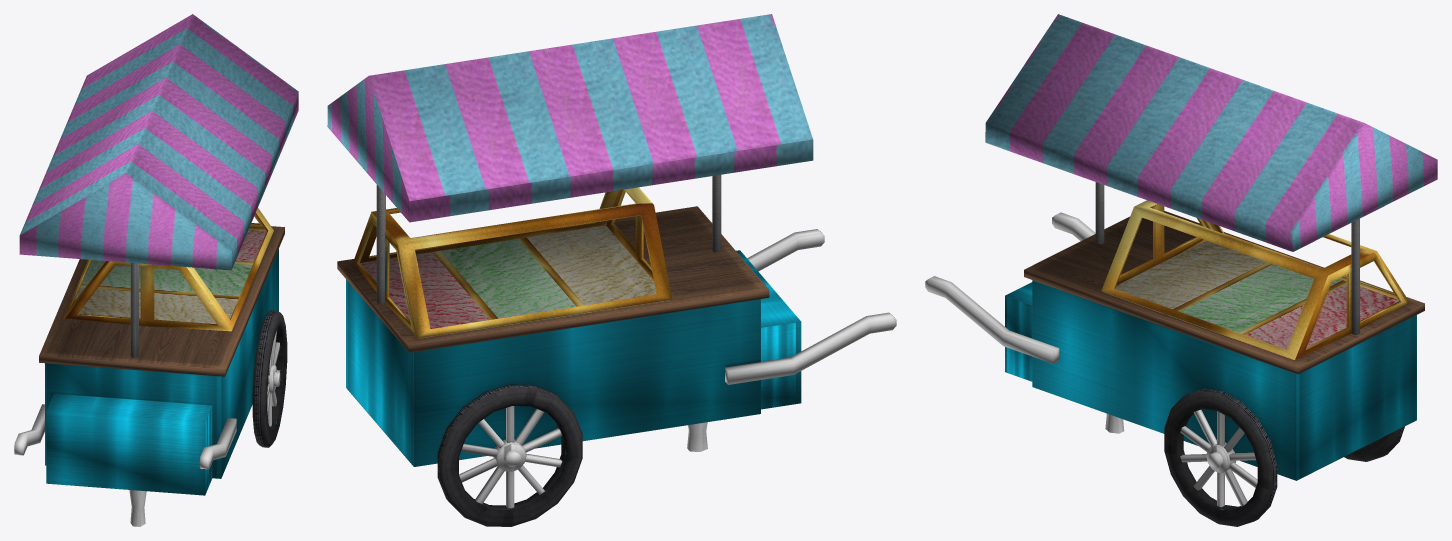
File: Cart.fbx
The picture shows the model from 3 angles, left to right: view 1: azimuth 30°, elevation 25°; view 2: azimuth 150°, elevation 25°; view 3: azimuth 270°, elevation 25°; orthographic projection. The views are drawn at different scales.
Visible parts, largest first — view 1: Ice_Cream_Cart; view 2: Ice_Cream_Cart; view 3: Ice_Cream_Cart.
Part boxes in pixels (x1,y1,x2,y2): Ice_Cream_Cart: (14, 14, 298, 526); Ice_Cream_Cart: (327, 14, 896, 526); Ice_Cream_Cart: (925, 14, 1437, 526).
Size of the model in its own units: 256 by 233 by 274.
1 material, 1 textured.
